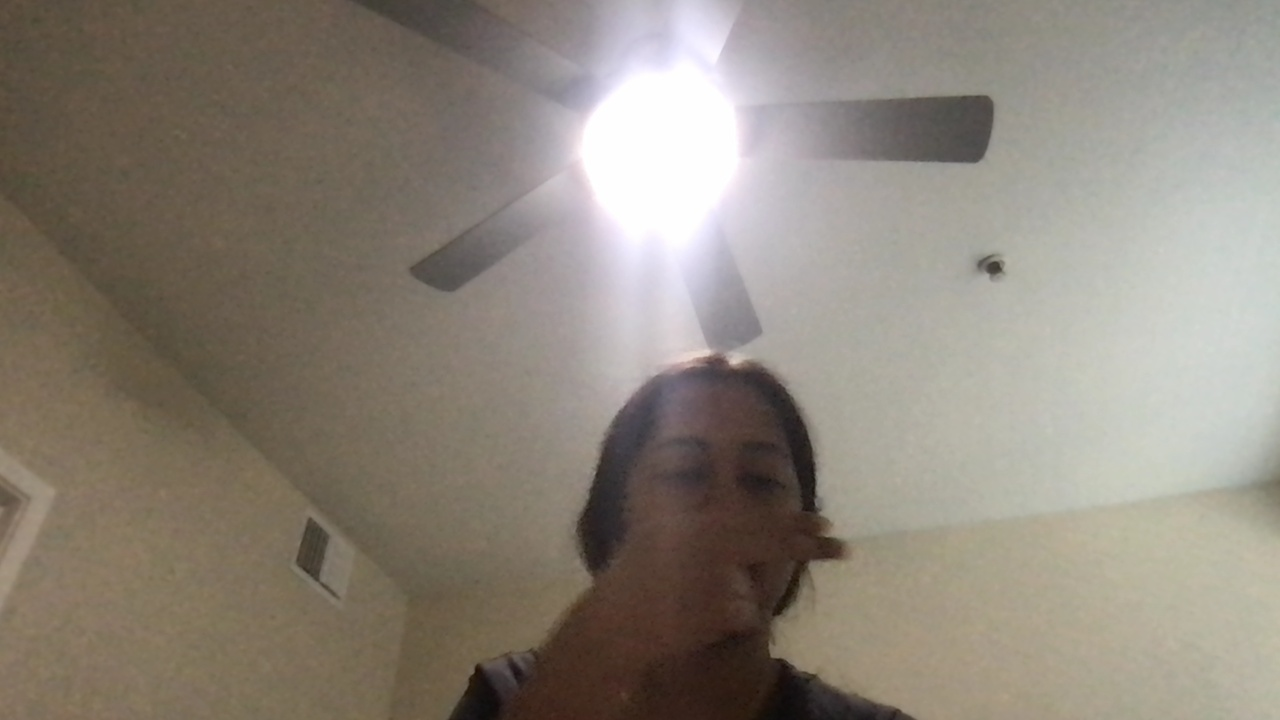h: (635, 506, 860, 643)
